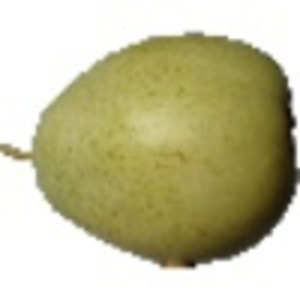pera: (1, 32, 300, 272)
